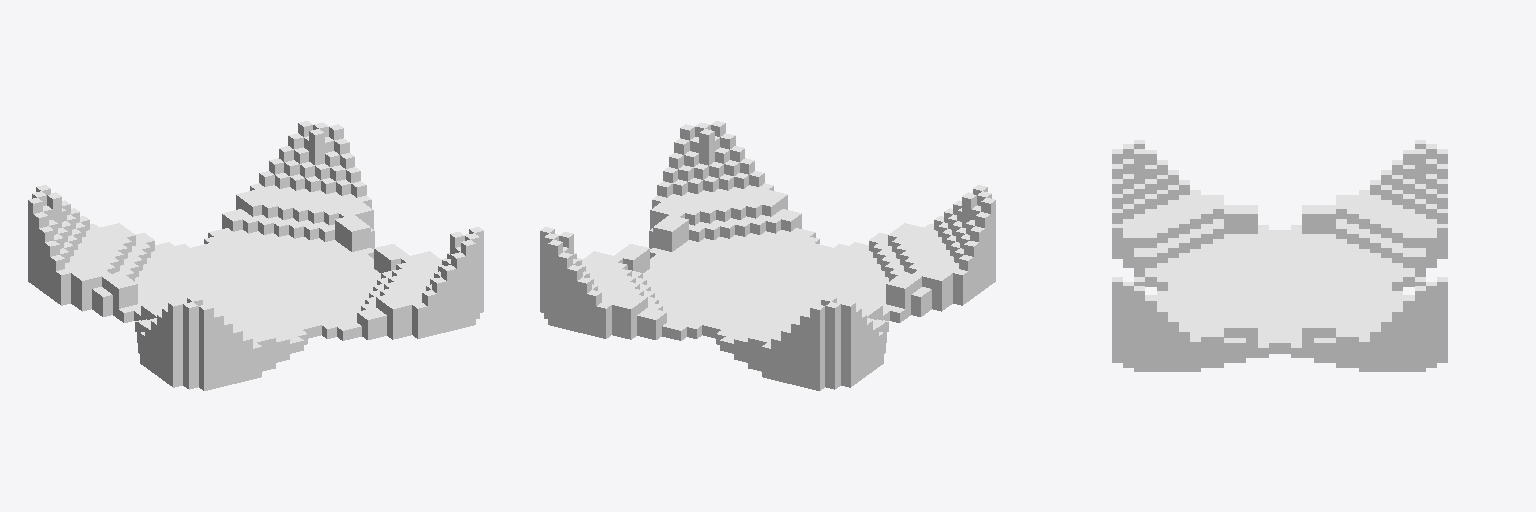
The model's file is spike_base_only.obj.
3 views of the same model, side by side, from view 1: azimuth 30°, elevation 25°; view 2: azimuth 150°, elevation 25°; view 3: azimuth 270°, elevation 25° (orthographic).
Visible parts, largest first — view 1: object 1; view 2: object 1; view 3: object 1.
Boxes of the visible parts, x1,y1,x2,y2 form: object 1: [28, 121, 483, 390]; object 1: [540, 121, 995, 390]; object 1: [1112, 140, 1447, 371].
Size of the model in its own units: 3.2 by 0.8 by 3.